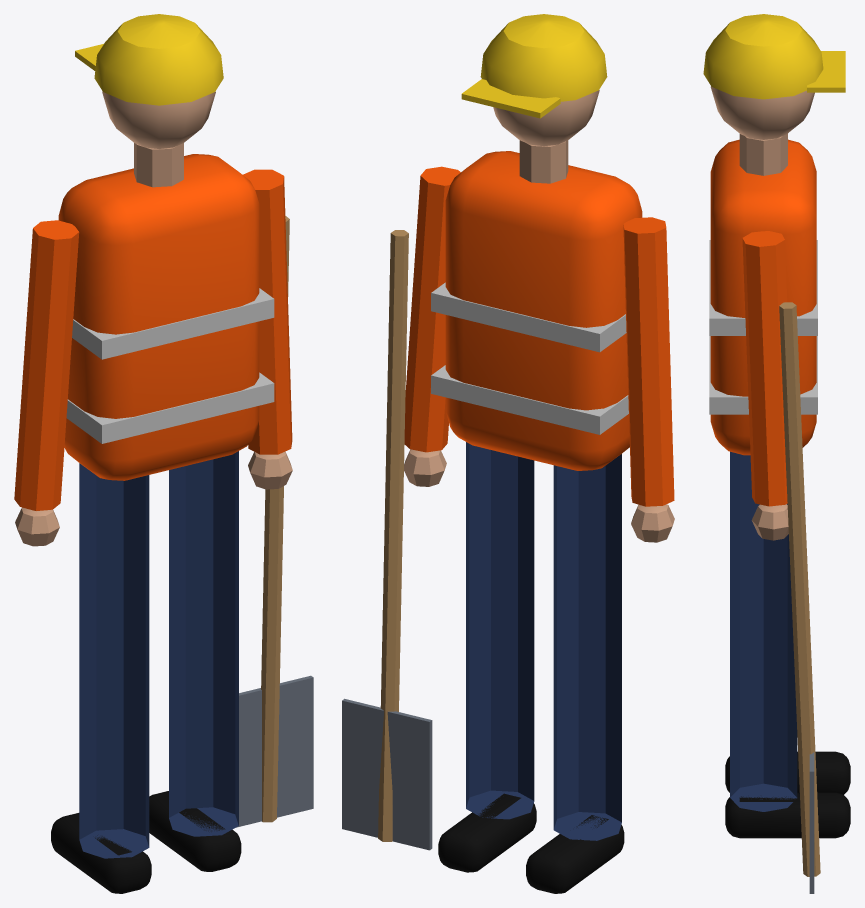
Rendered from people.crew.labourer.glb.
3 renders of one model, left to right at view 1: azimuth 30°, elevation 25°; view 2: azimuth 150°, elevation 25°; view 3: azimuth 270°, elevation 25°, orthographic. The views are drawn at different scales.
Visible parts, largest first — view 1: main__hivis_orange, main__denim, main__plastic_yellow, main__steel_stainless, main__skin, main__steel_painted, main__plastic_black, main__softwood; view 2: main__hivis_orange, main__denim, main__steel_painted, main__softwood, main__plastic_yellow, main__plastic_black, main__steel_stainless, main__skin; view 3: main__hivis_orange, main__denim, main__softwood, main__plastic_yellow, main__skin, main__plastic_black, main__steel_stainless, main__steel_painted.
Boxes of the visible parts, left/top/right/bottom form: main__hivis_orange: left=14, top=154, right=292, bottom=510; main__denim: left=79, top=451, right=238, bottom=858; main__plastic_yellow: left=75, top=14, right=223, bottom=105; main__steel_stainless: left=66, top=288, right=274, bottom=443; main__skin: left=15, top=91, right=292, bottom=546; main__steel_painted: left=236, top=675, right=313, bottom=827; main__plastic_black: left=51, top=791, right=241, bottom=893; main__softwood: left=261, top=216, right=289, bottom=822; main__hivis_orange: left=404, top=151, right=674, bottom=506; main__denim: left=466, top=442, right=621, bottom=840; main__steel_painted: left=342, top=698, right=432, bottom=850; main__softwood: left=378, top=230, right=408, bottom=841; main__plastic_yellow: left=461, top=14, right=607, bottom=118; main__plastic_black: left=438, top=793, right=624, bottom=893; main__steel_stainless: left=431, top=282, right=628, bottom=434; main__skin: left=404, top=90, right=674, bottom=542; main__hivis_orange: left=710, top=139, right=816, bottom=506; main__denim: left=730, top=451, right=797, bottom=811; main__softwood: left=779, top=302, right=820, bottom=876; main__plastic_yellow: left=703, top=14, right=845, bottom=99; main__skin: left=710, top=86, right=814, bottom=540; main__plastic_black: left=725, top=751, right=850, bottom=838; main__steel_stainless: left=709, top=240, right=817, bottom=414; main__steel_painted: left=809, top=752, right=814, bottom=893.
Bounding box in the file's own units: 0.705 × 1.81 × 0.305.
